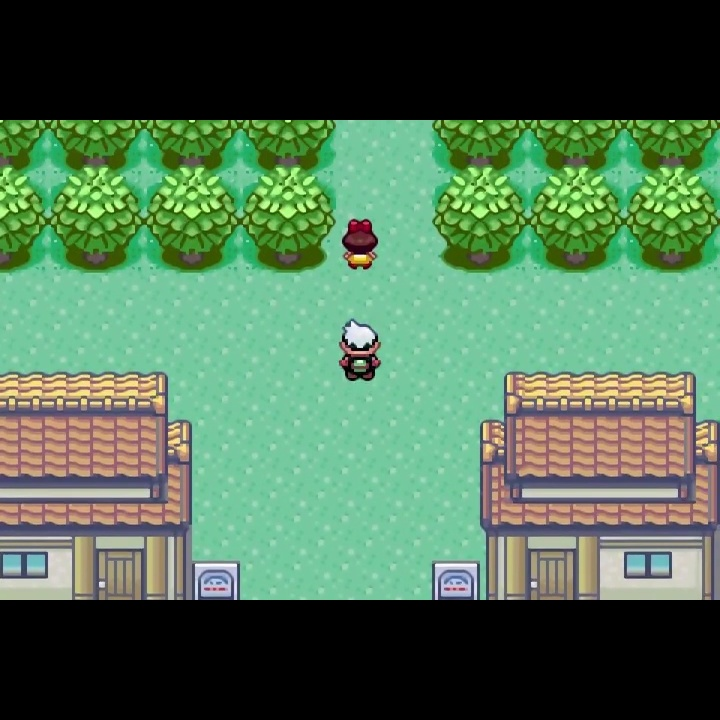house: (476, 365, 720, 601), (1, 371, 195, 601)
npc: (335, 318, 385, 384), (341, 215, 383, 274)
wall: (529, 163, 625, 276), (48, 163, 145, 273), (431, 165, 528, 275), (144, 164, 241, 273), (242, 163, 337, 273), (627, 165, 720, 276), (1, 162, 49, 273), (628, 120, 720, 172), (145, 120, 241, 168), (530, 121, 626, 169), (430, 121, 528, 168), (48, 120, 145, 167), (242, 121, 339, 168), (1, 120, 48, 167)
